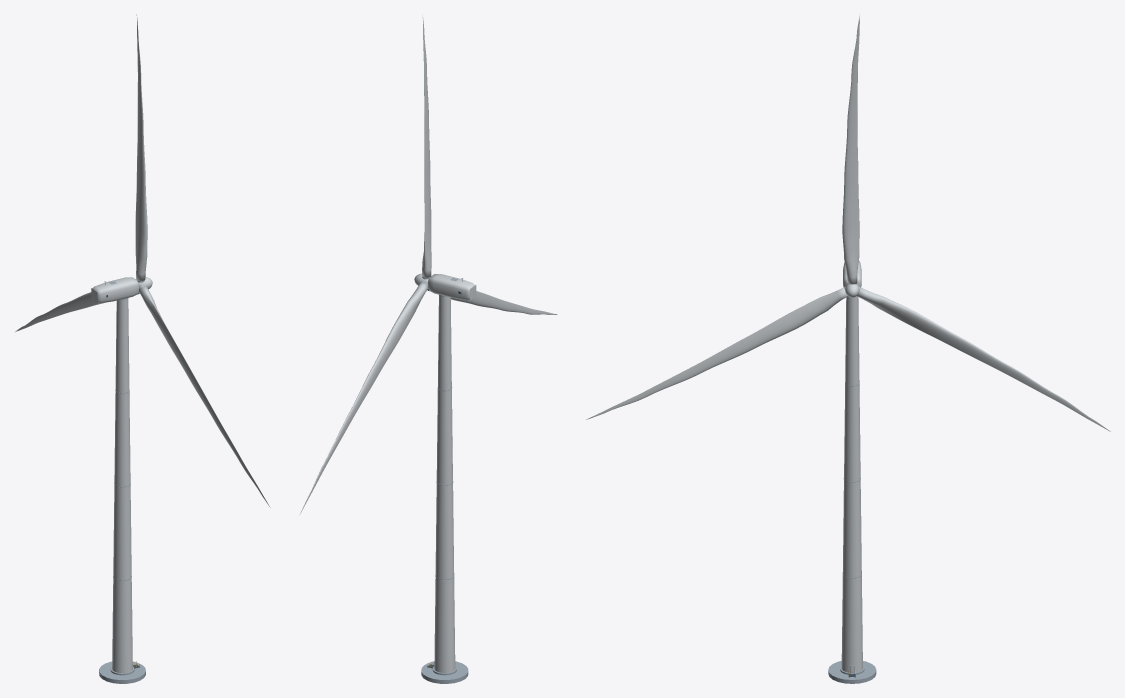
The picture shows the model from 3 angles, left to right: view 1: azimuth 30°, elevation 25°; view 2: azimuth 150°, elevation 25°; view 3: azimuth 270°, elevation 25°; orthographic projection. The views are drawn at different scales.
Parts seen in each view (by area): view 1: Blade_01_Airfoil, Tower_Shell_01, Tower_Shell_02, Tower_Shell_03, Blade_02_Airfoil, Tower_Shell_04, Nacelle_Cover_TurbineWhite, Blade_03_Airfoil, Foundation_Concrete; view 2: Blade_03_Airfoil, Tower_Shell_01, Tower_Shell_02, Blade_01_Airfoil, Tower_Shell_03, Tower_Shell_04, Nacelle_Cover_TurbineWhite, Blade_02_Airfoil, Foundation_Concrete; view 3: Blade_02_Airfoil, Blade_01_Airfoil, Blade_03_Airfoil, Tower_Shell_01, Tower_Shell_02, Tower_Shell_03, Tower_Shell_04.
Part boxes in pixels (left/top/right/bottom): Blade_01_Airfoil: left=135, top=14, right=147, bottom=280; Tower_Shell_01: left=112, top=578, right=132, bottom=672; Tower_Shell_02: left=113, top=485, right=131, bottom=580; Tower_Shell_03: left=114, top=391, right=130, bottom=486; Blade_02_Airfoil: left=139, top=286, right=270, bottom=507; Tower_Shell_04: left=115, top=299, right=129, bottom=392; Nacelle_Cover_TurbineWhite: left=91, top=277, right=139, bottom=303; Blade_03_Airfoil: left=14, top=292, right=104, bottom=332; Foundation_Concrete: left=99, top=661, right=145, bottom=683; Blade_03_Airfoil: left=300, top=283, right=427, bottom=513; Tower_Shell_01: left=434, top=577, right=455, bottom=672; Tower_Shell_02: left=435, top=483, right=454, bottom=579; Blade_01_Airfoil: left=422, top=14, right=431, bottom=277; Tower_Shell_03: left=436, top=389, right=452, bottom=484; Tower_Shell_04: left=438, top=295, right=451, bottom=390; Nacelle_Cover_TurbineWhite: left=428, top=274, right=476, bottom=299; Blade_02_Airfoil: left=450, top=291, right=557, bottom=314; Foundation_Concrete: left=421, top=661, right=468, bottom=683; Blade_02_Airfoil: left=586, top=287, right=847, bottom=419; Blade_01_Airfoil: left=842, top=14, right=859, bottom=284; Blade_03_Airfoil: left=857, top=287, right=1110, bottom=431; Tower_Shell_01: left=841, top=575, right=862, bottom=672; Tower_Shell_02: left=842, top=480, right=861, bottom=577; Tower_Shell_03: left=844, top=384, right=860, bottom=481; Tower_Shell_04: left=845, top=296, right=859, bottom=385.
Bounding box in the file's own units: 20.42 × 221 × 157.
